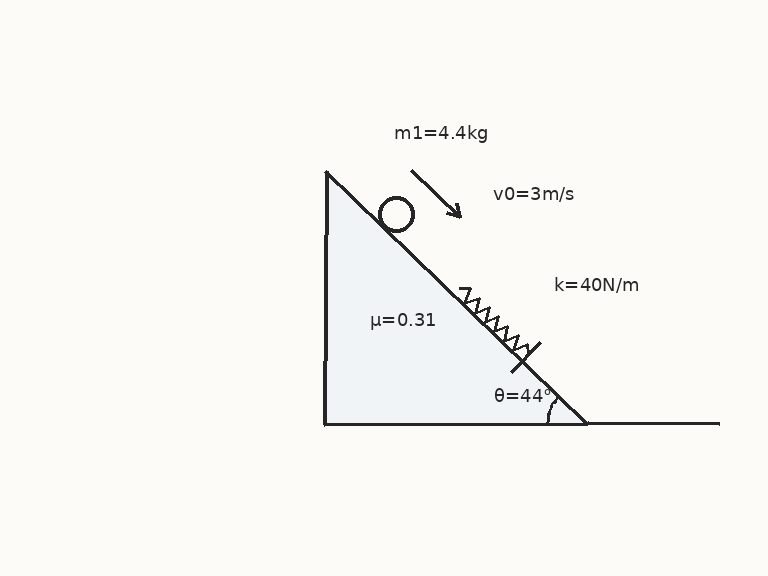ball: (376, 194, 416, 234)
ramp: (323, 169, 589, 426)
spring: (458, 286, 530, 356)
